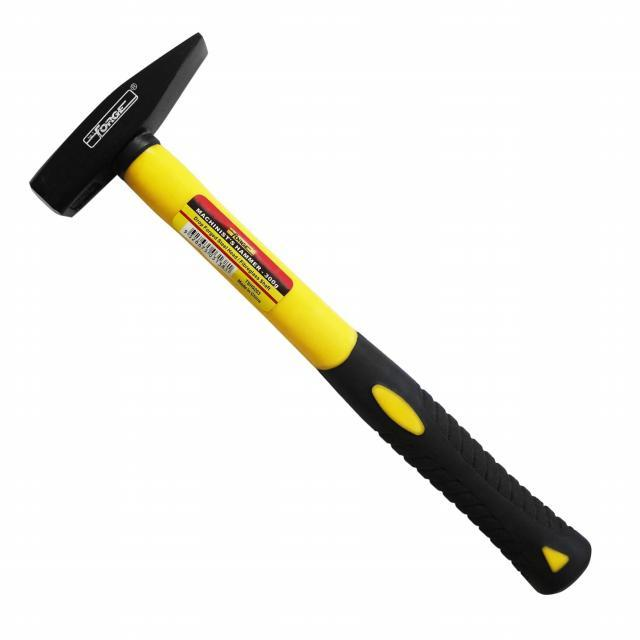hammer: (23, 26, 602, 606)
